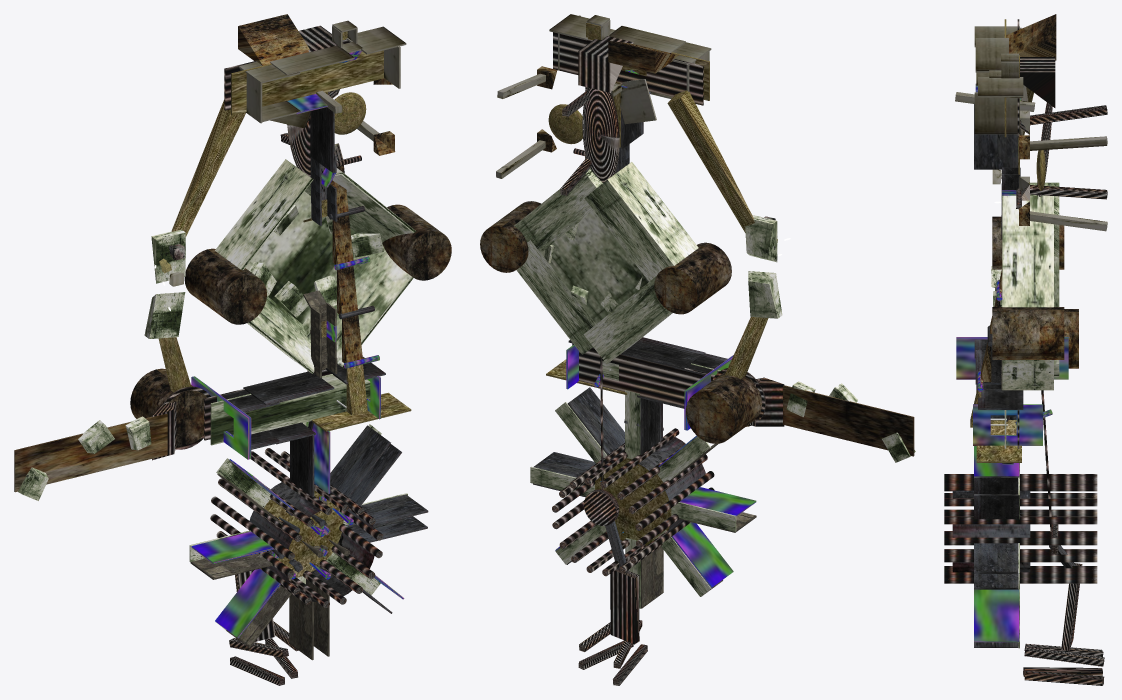
Rendered from coolplace.glb.
The picture shows the model from 3 angles, left to right: view 1: azimuth 30°, elevation 25°; view 2: azimuth 150°, elevation 25°; view 3: azimuth 270°, elevation 25°; orthographic projection. The views are drawn at different scales.
Parts seen in each view (by area): view 1: Cube.112, Cube.116, Cube.119, Cylinder.027, Cube.086, Cube.023, Cube.118, Cylinder.028, Cylinder.025, Cube.154, Cylinder.001, Cube.149 (+41 smaller); view 2: Cube.119, Cube.116, Cube.112, Cylinder.025, Cylinder.027, Cube.018, Cube.017, Cube.118, Cube.154, Cube.117, Cube.091, Sphere.004 (+30 smaller); view 3: Cube.117, Cylinder.028, Cube.054, Cube.020, Cylinder.001, Cube.089, Cube.118, Cube.077, Cube.149, Cube.062, Cube.120, Cylinder.013 (+44 smaller).
Boxes of the visible parts, <box> form: Cube.112: <box>14,413,167,492</box>; Cube.116: <box>245,191,356,323</box>; Cube.119: <box>215,159,313,269</box>; Cylinder.027: <box>184,248,266,324</box>; Cube.086: <box>231,50,383,115</box>; Cube.023: <box>210,374,370,445</box>; Cube.118: <box>302,244,413,367</box>; Cylinder.028: <box>382,204,451,280</box>; Cylinder.025: <box>130,368,207,446</box>; Cube.154: <box>171,100,245,236</box>; Cylinder.001: <box>249,482,374,602</box>; Cube.149: <box>238,14,309,65</box>; Cube.119: <box>584,162,698,281</box>; Cube.116: <box>541,210,648,323</box>; Cube.112: <box>783,385,914,456</box>; Cylinder.025: <box>686,372,762,443</box>; Cylinder.027: <box>654,242,731,314</box>; Cube.018: <box>572,343,714,405</box>; Cube.017: <box>583,276,672,364</box>; Cube.118: <box>516,240,595,354</box>; Cube.154: <box>667,90,754,232</box>; Cube.117: <box>514,168,602,252</box>; Cube.091: <box>553,32,703,105</box>; Sphere.004: <box>582,88,619,182</box>; Cube.117: <box>1002,195,1053,307</box>; Cylinder.028: <box>992,307,1064,359</box>; Cube.054: <box>974,589,1019,642</box>; Cube.020: <box>973,404,1042,445</box>; Cylinder.001: <box>952,490,1030,572</box>; Cube.089: <box>974,92,1019,134</box>; Cube.118: <box>1002,360,1053,390</box>; Cube.077: <box>974,103,1018,169</box>; Cube.149: <box>1006,14,1056,60</box>; Cube.062: <box>974,543,1018,573</box>; Cube.120: <box>1020,57,1055,107</box>; Cylinder.013: <box>944,537,1097,545</box>.
Size of the model in its own units: 544 by 797 by 181.
Materials: 38 (38 with a texture image).
